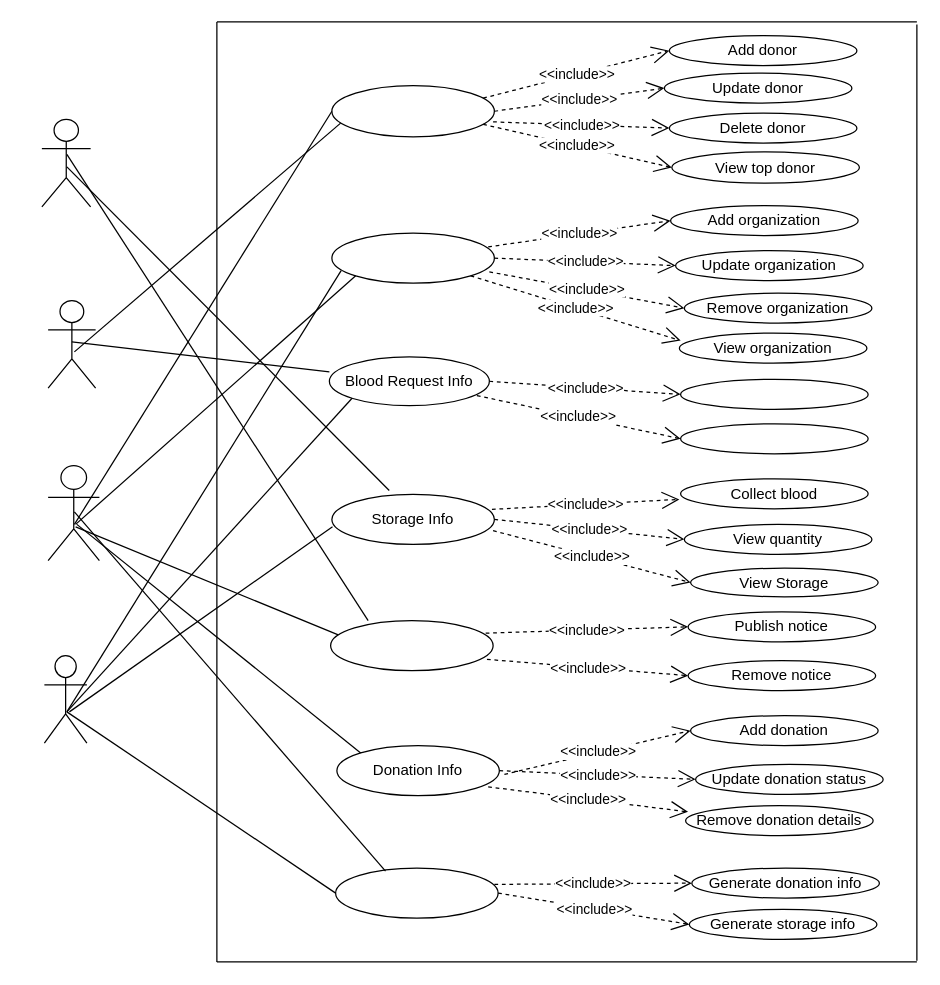
Some shapes in this 940 by 985 pixel diagram are drawn without their labels. The shapes that lost their labels are listed below. From the top down, each one's box as (x1, y1, x2, y2) in pixels, then its label:
(331, 84, 494, 137): Donor Info
(41, 118, 91, 207): Blood Seeker
(331, 232, 494, 283): Organization Info
(47, 299, 96, 388): Donor
(679, 378, 868, 409): Send request
(679, 422, 868, 454): Accept request
(47, 464, 99, 561): Admin
(329, 619, 493, 671): Notice Info
(43, 654, 87, 743): Organization
(334, 867, 498, 918): Report Info
